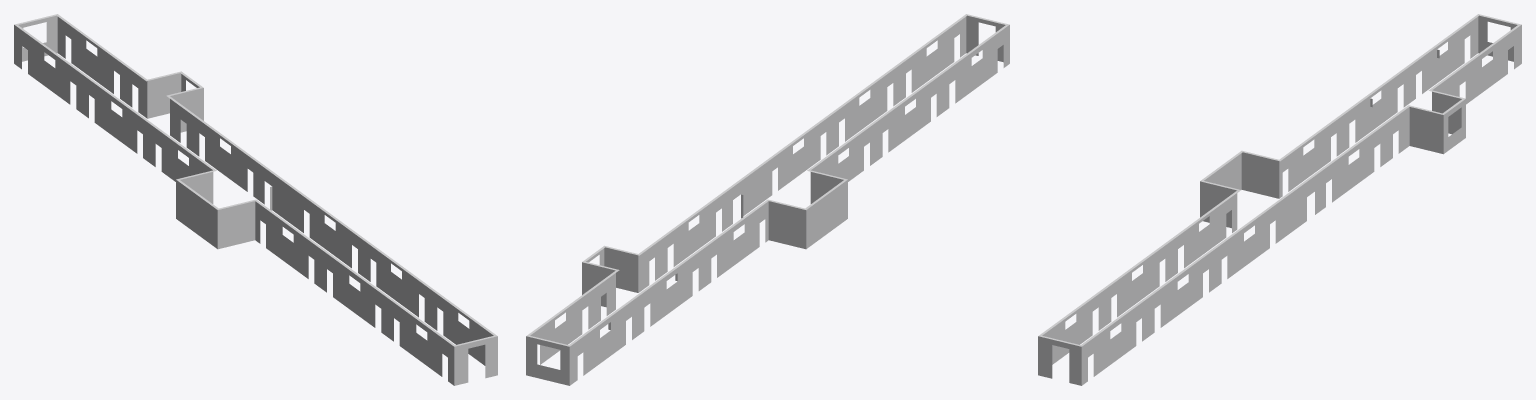
The model's file is LouDao-63.FBX.
3 renders of one model, left to right at view 1: azimuth 30°, elevation 25°; view 2: azimuth 150°, elevation 25°; view 3: azimuth 330°, elevation 25°, orthographic.
Parts seen in each view (by area): view 1: classroom-63; view 2: classroom-63; view 3: classroom-63.
Part boxes in pixels (x1,y1,x2,y2): classroom-63: (14,14,497,385); classroom-63: (526,14,1009,385); classroom-63: (1038,14,1521,385).
Size of the model in its own units: 10.14 by 3.3 by 67.21.
1 material, 1 textured.
